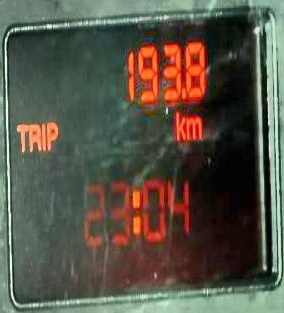-: (180, 86, 186, 96)
0: (141, 178, 166, 241)
1: (126, 49, 134, 101)
2: (83, 183, 104, 248)
3: (108, 180, 130, 245), (161, 42, 180, 100)
4: (166, 178, 189, 234)
8: (184, 40, 205, 98)
9: (136, 43, 157, 102)
X: (131, 188, 141, 233), (27, 122, 41, 153), (185, 115, 202, 140), (14, 122, 27, 151), (45, 120, 57, 150), (174, 108, 185, 138), (40, 120, 45, 151)
